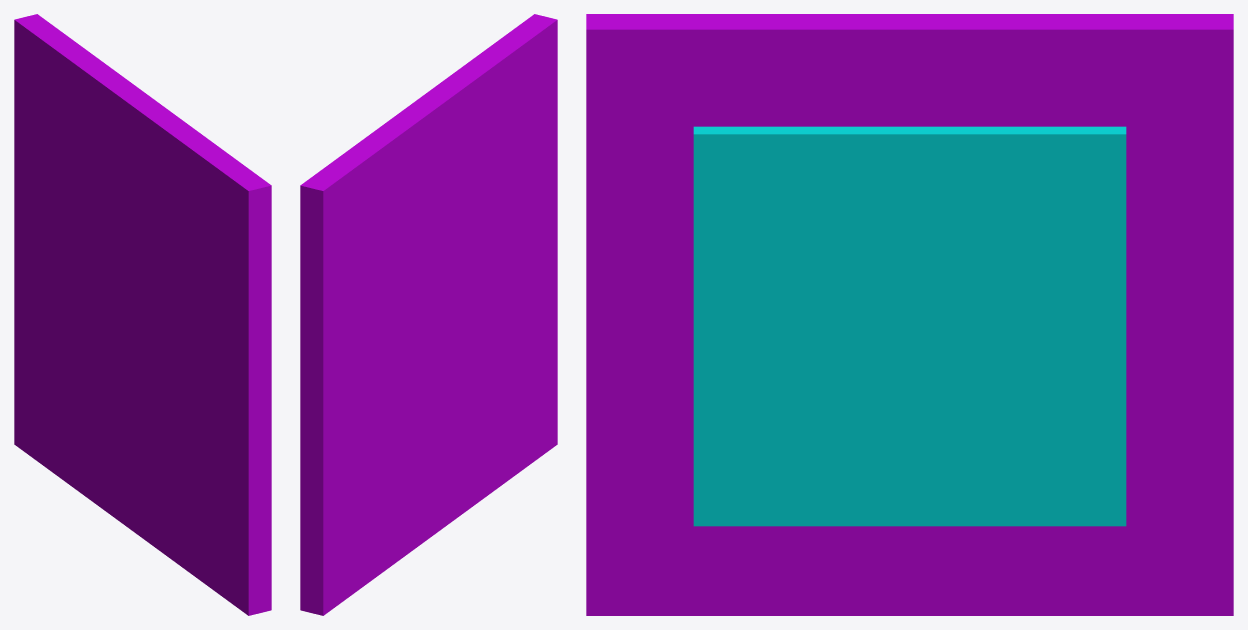
The model's file is cuadri.fbx.
The picture shows the model from 3 angles, left to right: view 1: azimuth 30°, elevation 25°; view 2: azimuth 150°, elevation 25°; view 3: azimuth 270°, elevation 25°; orthographic projection. The views are drawn at different scales.
Parts seen in each view (by area): view 1: Cube; view 2: Cube; view 3: Cube.
Boxes of the visible parts, <box> form: Cube: <box>14,14,271,615</box>; Cube: <box>300,14,557,615</box>; Cube: <box>586,14,1233,615</box>.
Size of the model in its own units: 2.99 by 0.2516 by 2.99.
